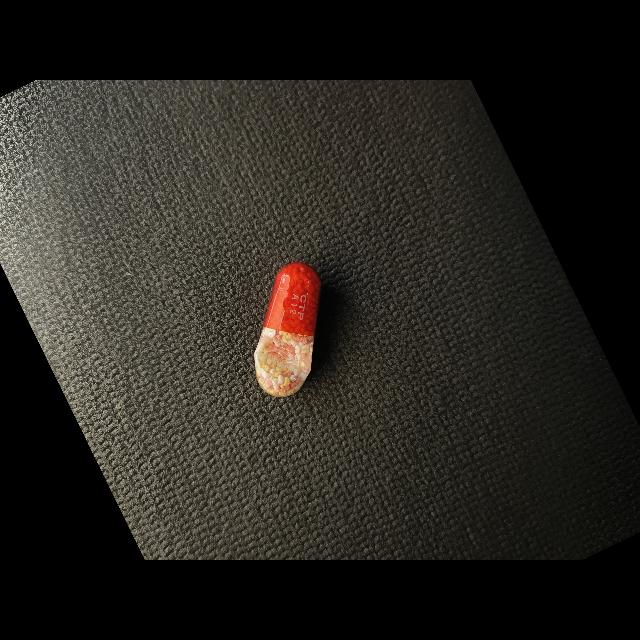Defective Capsule: (254, 262, 321, 397)
